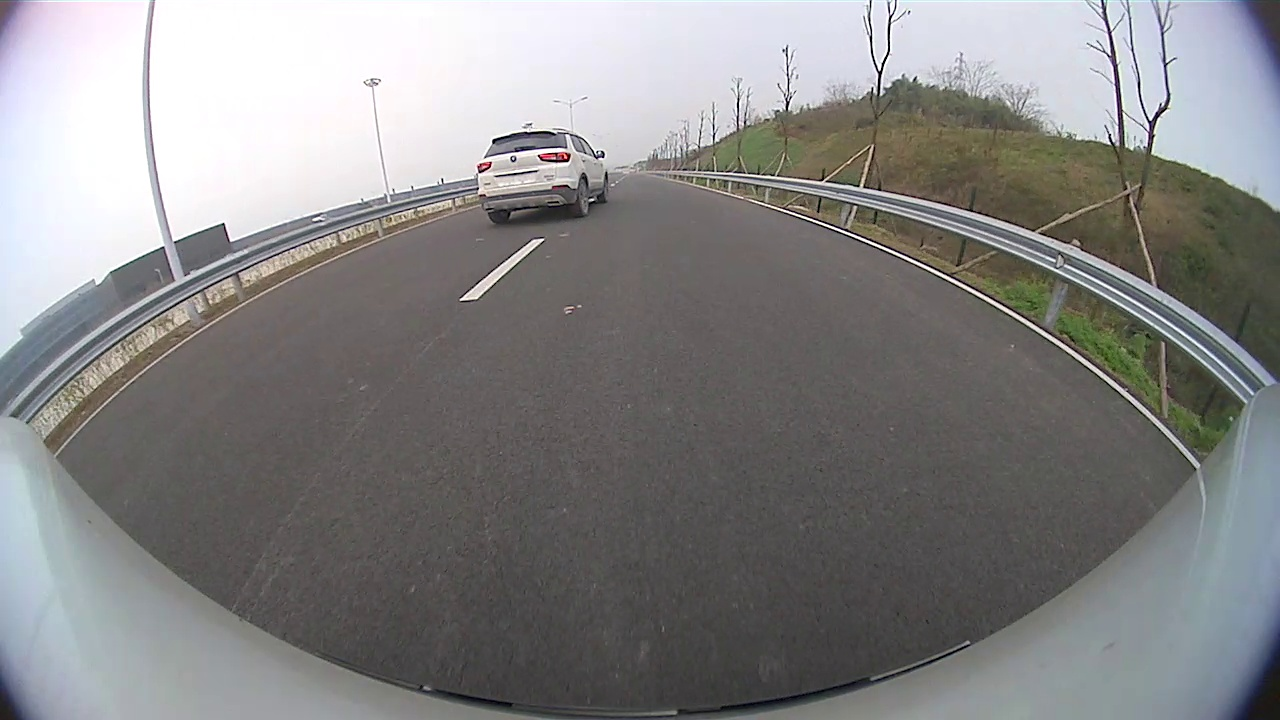car: (475, 126, 612, 229)
rear: (575, 180, 592, 217)
